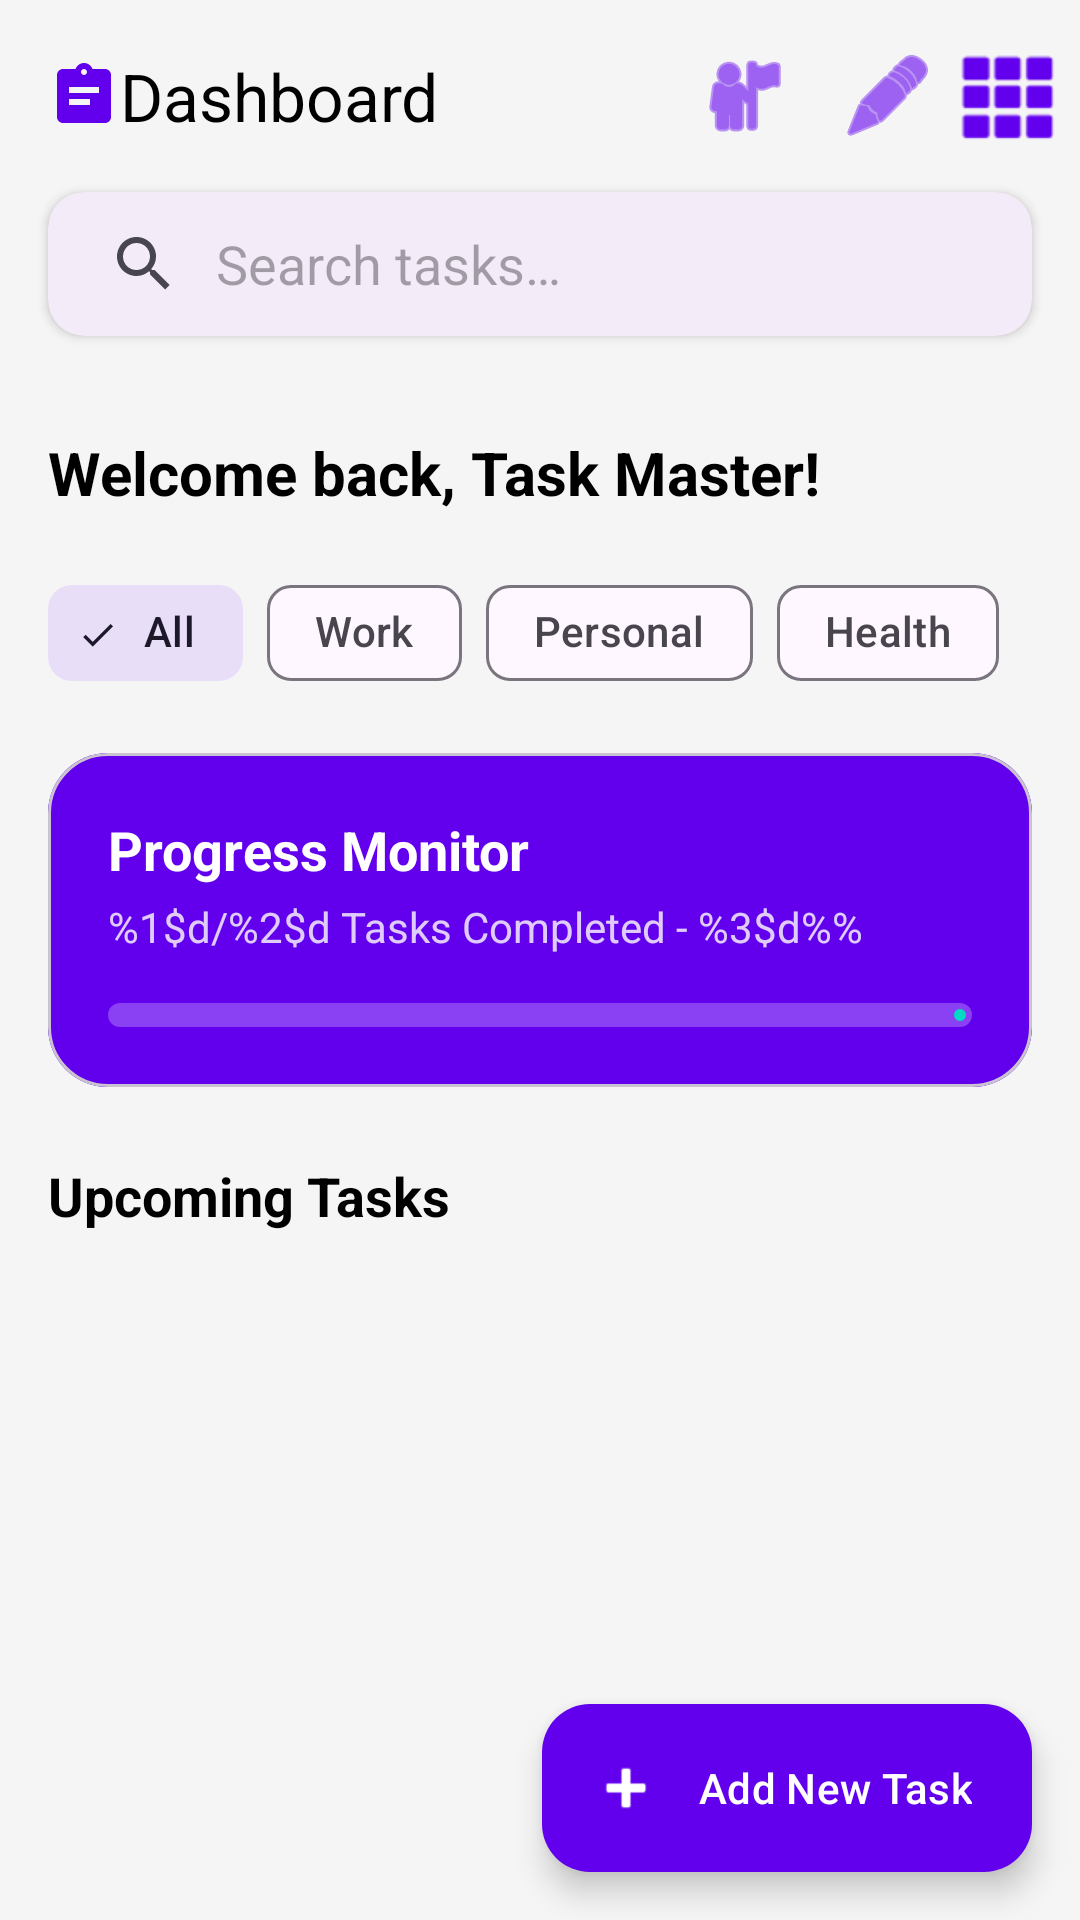

Icon click points for this 1080 x 1920 phone screenshot, format (x=x, y=y):
Profile: (x=745, y=96)
Project Board: (x=1007, y=97)
